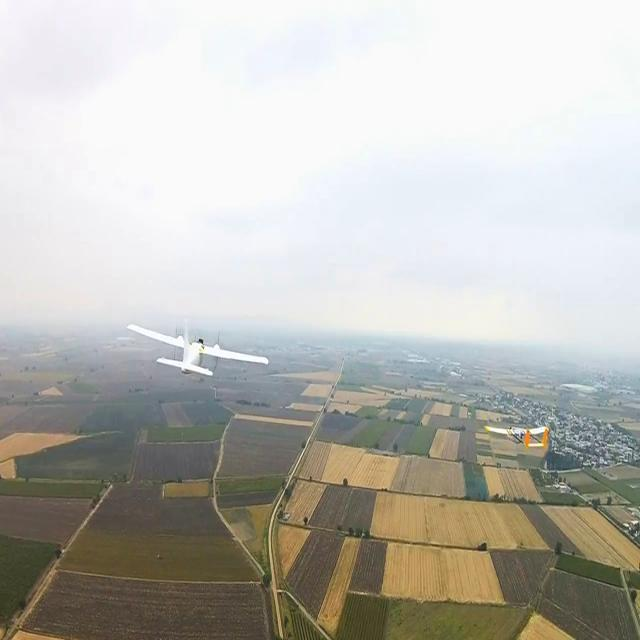iha: (115, 336, 273, 361), (482, 417, 543, 453)
